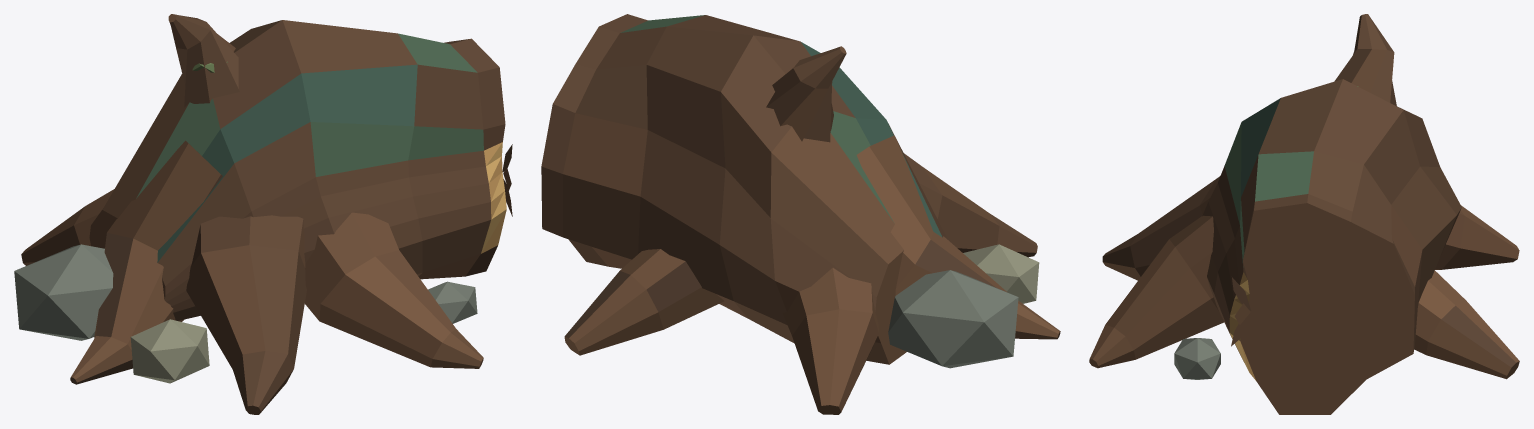
Rendered from rootfall-left.glb.
3 views of the same model, side by side, from view 1: azimuth 30°, elevation 25°; view 2: azimuth 150°, elevation 25°; view 3: azimuth 270°, elevation 25° (orthographic). The views are drawn at different scales.
Visible parts, largest first — view 1: rootfall-left; view 2: rootfall-left; view 3: rootfall-left.
Part boxes in pixels (left/top/right/bottom): rootfall-left: left=14, top=14, right=512, bottom=414; rootfall-left: left=541, top=14, right=1060, bottom=414; rootfall-left: left=1089, top=14, right=1519, bottom=414.
Bounding box in the file's own units: 5.28 × 3.47 × 4.78.
Materials: 1 (1 with a texture image).
